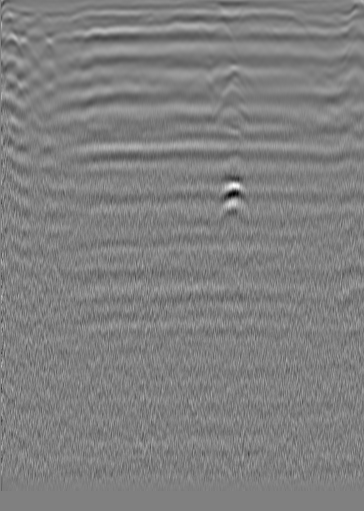가스: (216, 176, 256, 219)
상수: (303, 31, 323, 51)
오수: (26, 16, 46, 36)
우수: (164, 20, 184, 40)
